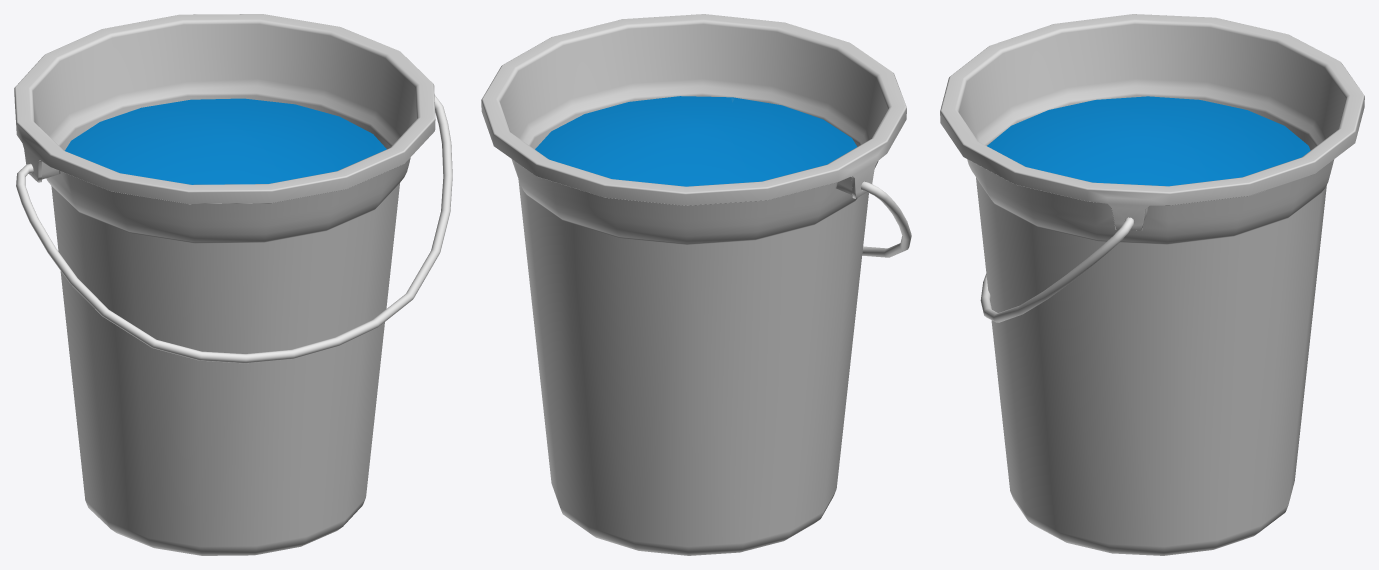
File: bucket.fbx
3 renders of one model, left to right at view 1: azimuth 30°, elevation 25°; view 2: azimuth 150°, elevation 25°; view 3: azimuth 270°, elevation 25°, orthographic.
Visible parts, largest first — view 1: pasted__Bucket, pCylinder1, pasted__Bucket_handle; view 2: pasted__Bucket, pCylinder1, pasted__Bucket_handle; view 3: pasted__Bucket, pCylinder1, pasted__Bucket_handle.
Part boxes in pixels (left/top/right/bottom): pasted__Bucket: left=14, top=14, right=435, bottom=555; pCylinder1: left=65, top=98, right=386, bottom=184; pasted__Bucket_handle: left=16, top=95, right=452, bottom=363; pasted__Bucket: left=481, top=14, right=906, bottom=555; pCylinder1: left=535, top=96, right=857, bottom=186; pasted__Bucket_handle: left=861, top=181, right=911, bottom=257; pasted__Bucket: left=940, top=14, right=1364, bottom=555; pCylinder1: left=987, top=96, right=1310, bottom=186; pasted__Bucket_handle: left=980, top=217, right=1134, bottom=322.
Size of the model in its own units: 3.31 by 3.16 by 3.04.
